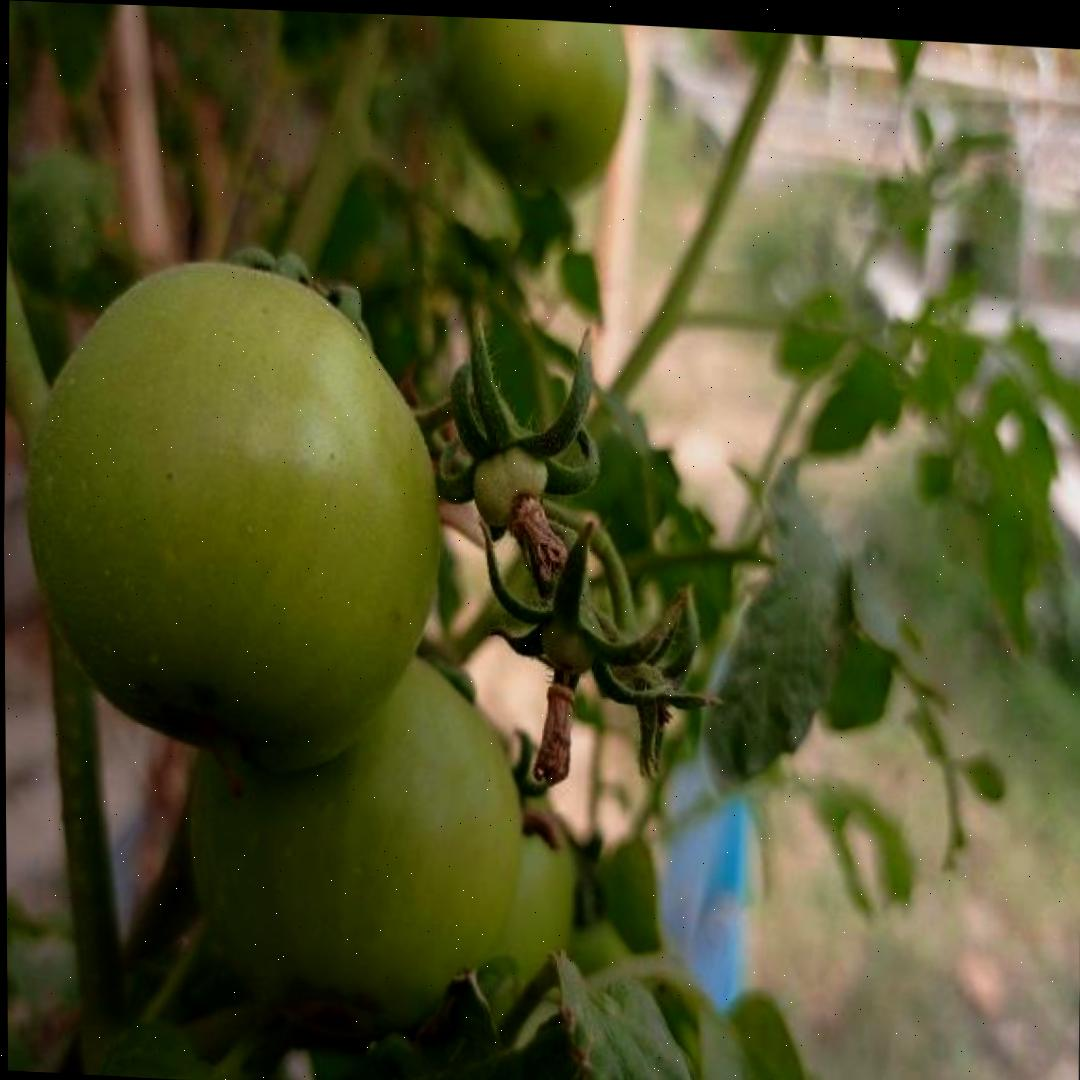mentah: (15, 244, 451, 786), (177, 628, 531, 1055), (468, 438, 552, 530)
